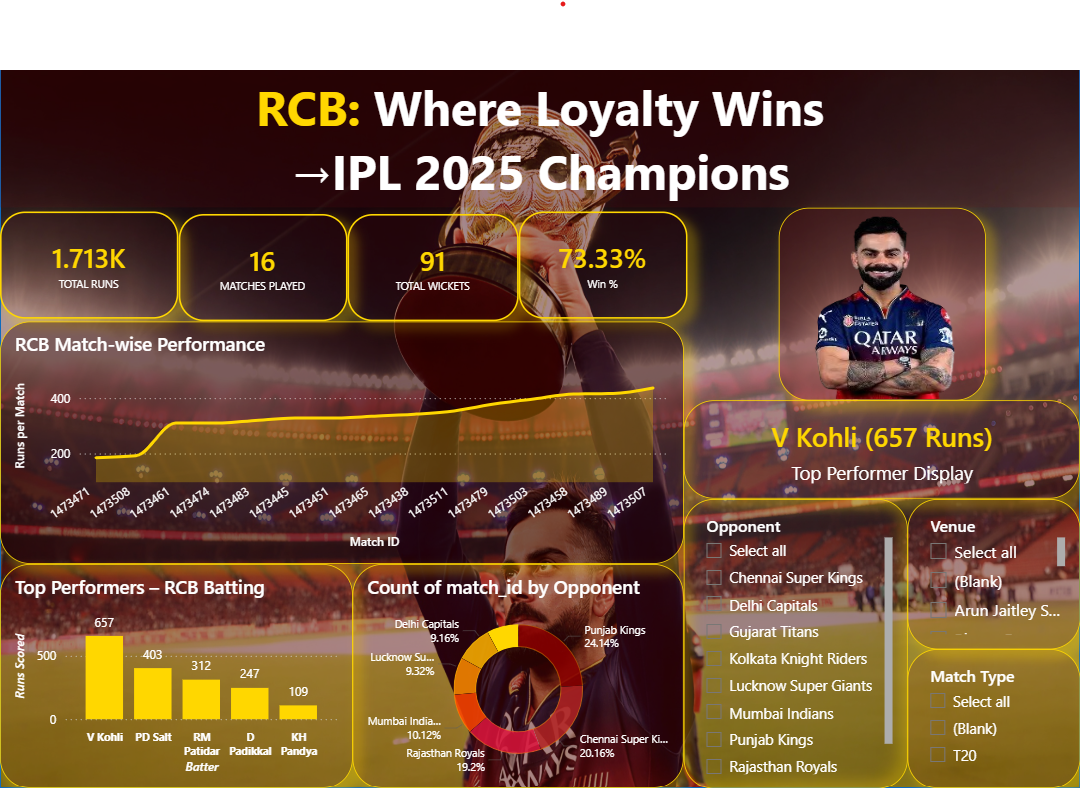

What the dashboard file says about the page in this screenshot:
{"tool":"powerbi","page":{"name":"Page 1","canvas":[1080,720],"ordinal":0},"visuals":[{"type":"shape","box":[0,0,1080,720],"z":0},{"type":"cardVisual","title":"TOTAL RUNS","fields":{"Data":["CountNonNull(Dataset.batting_team)"]},"box":[0,142.5,178.8,107.5],"z":1000},{"type":"cardVisual","title":"TOTAL RUNS","fields":{"Data":["Count(Dataset.match_id)"]},"box":[178.8,145,168.8,107.5],"z":2000},{"type":"cardVisual","title":"TOTAL RUNS","fields":{"Data":["Sum(Dataset.bowler_wicket)"]},"box":[347.5,145,171.2,107.5],"z":3000},{"type":"cardVisual","title":"TOTAL RUNS","fields":{"Data":["Match Summary.Win %"]},"box":[518.8,142.5,168.8,107.5],"z":4000},{"type":"textbox","box":[0,0,1080,138.8],"z":5000},{"type":"clusteredColumnChart","title":"Top Performers – RCB Batting","fields":{"Category":["Dataset.batter"],"Y":["Sum(Dataset.runs_batter)"]},"box":[0,495,352.5,225],"z":6000},{"type":"lineChart","title":"RCB Match-wise Performance","fields":{"Y":["Dataset.Runs per Match"],"Category":["Dataset.match_id"]},"box":[0,252.5,683.8,242.5],"z":7000},{"type":"donutChart","fields":{"Category":["Dataset.Opponent"],"Y":["CountNonNull(Dataset.match_id)"]},"box":[352.5,495,331.2,225],"z":8000},{"type":"slicer","fields":{"Values":["Dataset.Opponent"]},"box":[683.8,430,223.8,290],"z":9000},{"type":"slicer","fields":{"Values":["Dataset.match_type"]},"box":[907.5,580,172.5,140],"z":10000},{"type":"slicer","fields":{"Values":["Dataset.venue"]},"box":[907.5,430,172.5,150],"z":11000},{"type":"card","fields":{"Values":["Dataset.Top Performer Display"]},"box":[683.8,331.2,396.2,98.8],"z":12000},{"type":"image","box":[872.5,138.8,207.5,192.5],"z":13000}]}

Visuals, with their boxes on the page's 1080x720 design canvas (x1, y1, x2, y2). These are canvas units, not pixel positions in the 1080x788 screenshot, which may show the page scaled, cropped or inside an application window:
shape: x1=0 y1=0 x2=1080 y2=720
"TOTAL RUNS" cardVisual: x1=0 y1=142 x2=179 y2=250
"TOTAL RUNS" cardVisual: x1=179 y1=145 x2=348 y2=252
"TOTAL RUNS" cardVisual: x1=348 y1=145 x2=519 y2=252
"TOTAL RUNS" cardVisual: x1=519 y1=142 x2=688 y2=250
textbox: x1=0 y1=0 x2=1080 y2=139
"Top Performers – RCB Batting" clusteredColumnChart: x1=0 y1=495 x2=352 y2=720
"RCB Match-wise Performance" lineChart: x1=0 y1=252 x2=684 y2=495
donutChart - Dataset.Opponent x CountNonNull(Dataset.match_id): x1=352 y1=495 x2=684 y2=720
slicer - Dataset.Opponent: x1=684 y1=430 x2=908 y2=720
slicer - Dataset.match_type: x1=908 y1=580 x2=1080 y2=720
slicer - Dataset.venue: x1=908 y1=430 x2=1080 y2=580
card - Dataset.Top Performer Display: x1=684 y1=331 x2=1080 y2=430
image: x1=872 y1=139 x2=1080 y2=331
